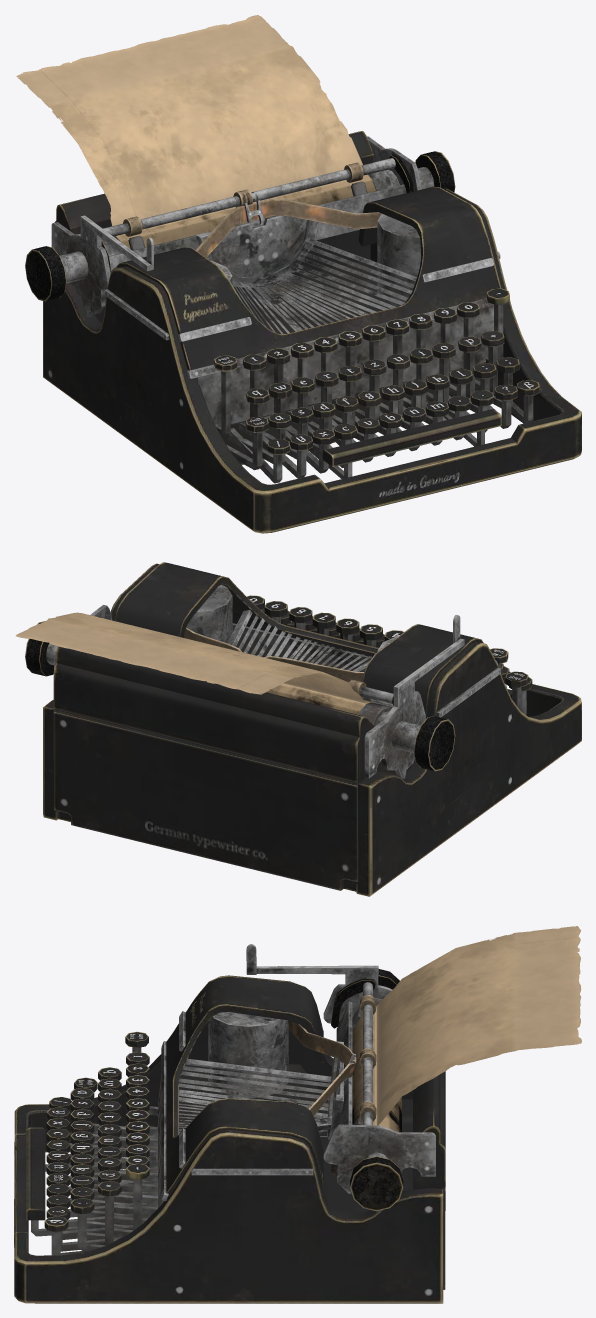
File: typewriter.glb
The picture shows the model from 3 angles, top to bottom: view 1: azimuth 30°, elevation 25°; view 2: azimuth 150°, elevation 25°; view 3: azimuth 270°, elevation 25°; orthographic projection.
Visible parts, largest first — view 1: typewriter_typewriter_0, paper_paper_0; view 2: typewriter_typewriter_0, paper_paper_0; view 3: typewriter_typewriter_0, paper_paper_0.
Boxes of the visible parts, left/top/right/bottom form: typewriter_typewriter_0: left=25, top=131, right=581, bottom=533; paper_paper_0: left=16, top=15, right=376, bottom=248; typewriter_typewriter_0: left=25, top=562, right=581, bottom=896; paper_paper_0: left=16, top=612, right=372, bottom=714; typewriter_typewriter_0: left=14, top=944, right=445, bottom=1303; paper_paper_0: left=352, top=926, right=581, bottom=1132.
Bounding box in the file's own units: 4.82 × 2.77 × 5.94.
2 materials, 2 textured.
